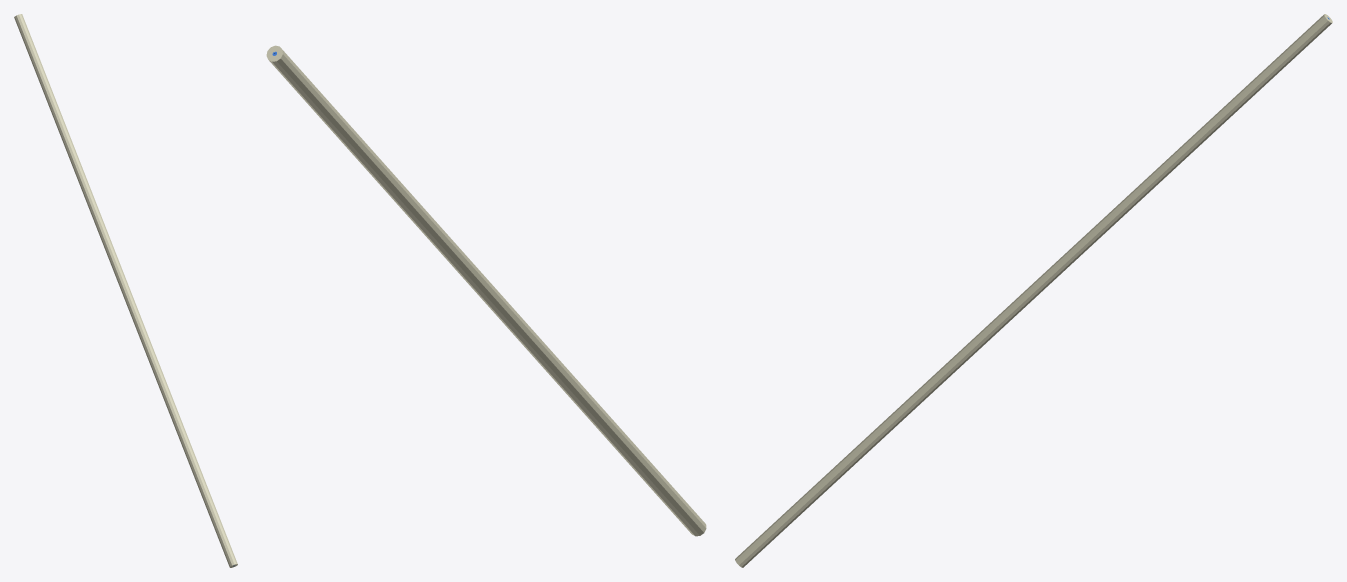
File: tile_130.glb
The picture shows the model from 3 angles, left to right: view 1: azimuth 30°, elevation 25°; view 2: azimuth 150°, elevation 25°; view 3: azimuth 270°, elevation 25°; orthographic projection. The views are drawn at different scales.
Bounding box in the file's own units: 0.3102 × 12.41 × 12.2.
